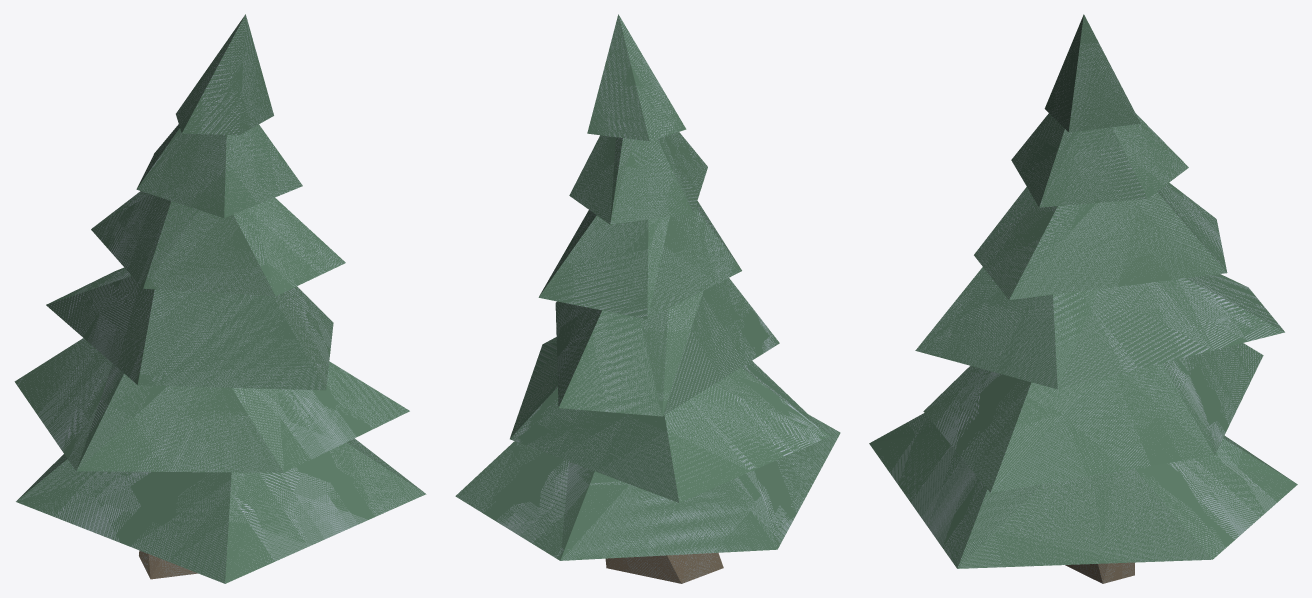
File: pine.dae
The picture shows the model from 3 angles, left to right: view 1: azimuth 30°, elevation 25°; view 2: azimuth 150°, elevation 25°; view 3: azimuth 270°, elevation 25°; orthographic projection. The views are drawn at different scales.
Parts seen in each view (by area): view 1: SketchUp (×7); view 2: SketchUp (×7); view 3: SketchUp (×7).
Boxes of the visible parts, x1,y1,x2,y2 form: SketchUp (×7): (14, 14, 426, 583); SketchUp (×7): (455, 14, 840, 583); SketchUp (×7): (869, 14, 1297, 583).
Size of the model in its own units: 102 by 114 by 166.
